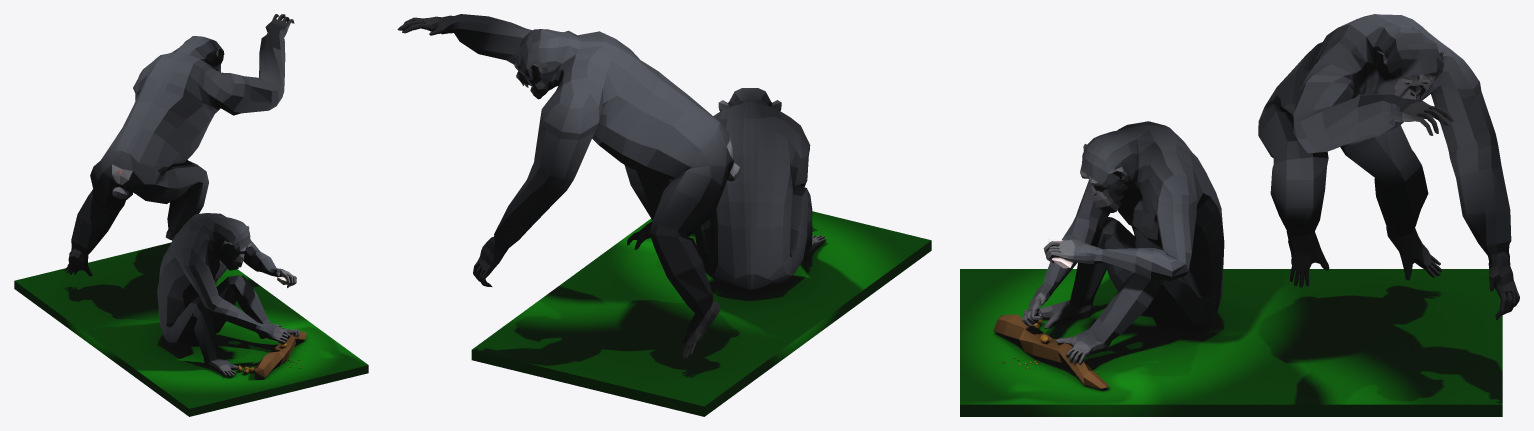
The model's file is chimps.glb.
3 renders of one model, left to right at view 1: azimuth 30°, elevation 25°; view 2: azimuth 150°, elevation 25°; view 3: azimuth 270°, elevation 25°, orthographic. The views are drawn at different scales.
Bounding box in the file's own units: 1.49 × 1.31 × 1.81.
1 material, 1 textured.
